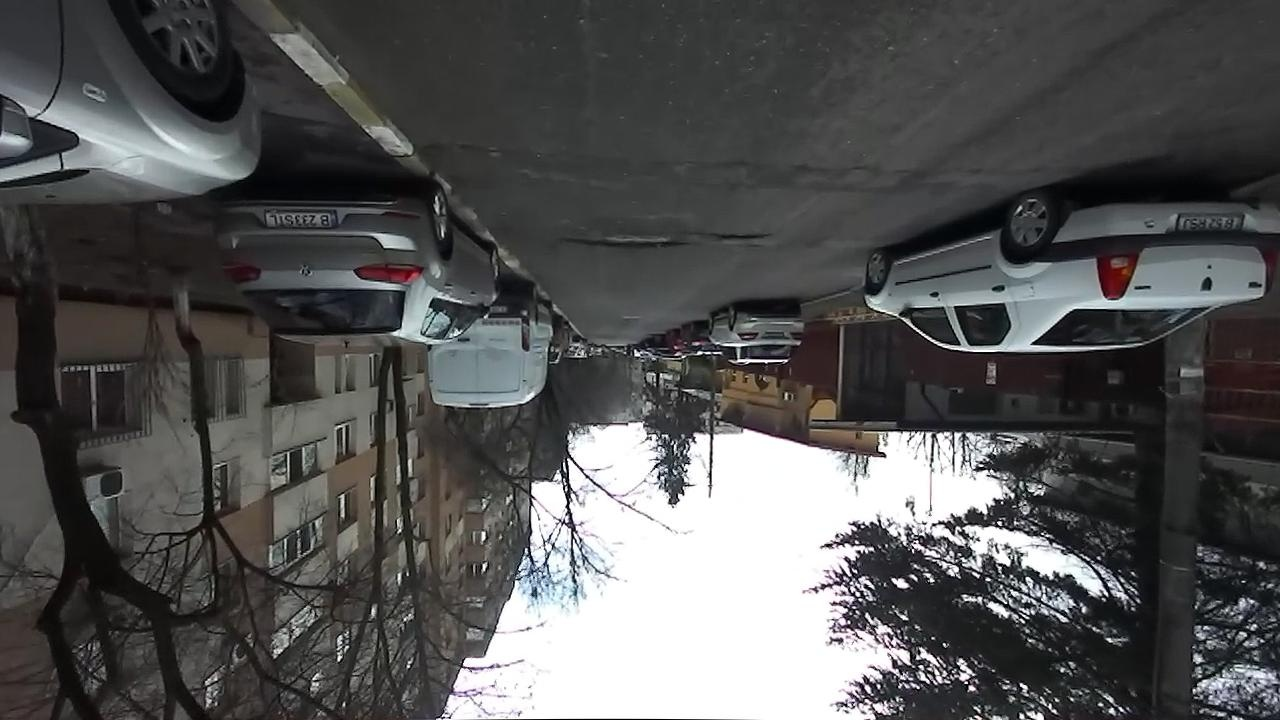pothole: (556, 229, 689, 250), (427, 135, 502, 160), (703, 230, 772, 243)
